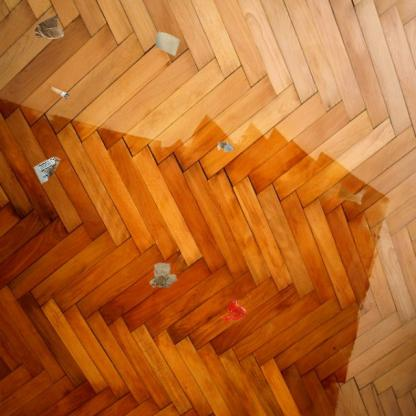dirty: (32, 13, 64, 42), (32, 156, 62, 186), (148, 262, 179, 290), (153, 30, 182, 58), (216, 140, 237, 154), (49, 86, 70, 99)
liquid: (222, 298, 247, 322), (337, 187, 368, 206)
